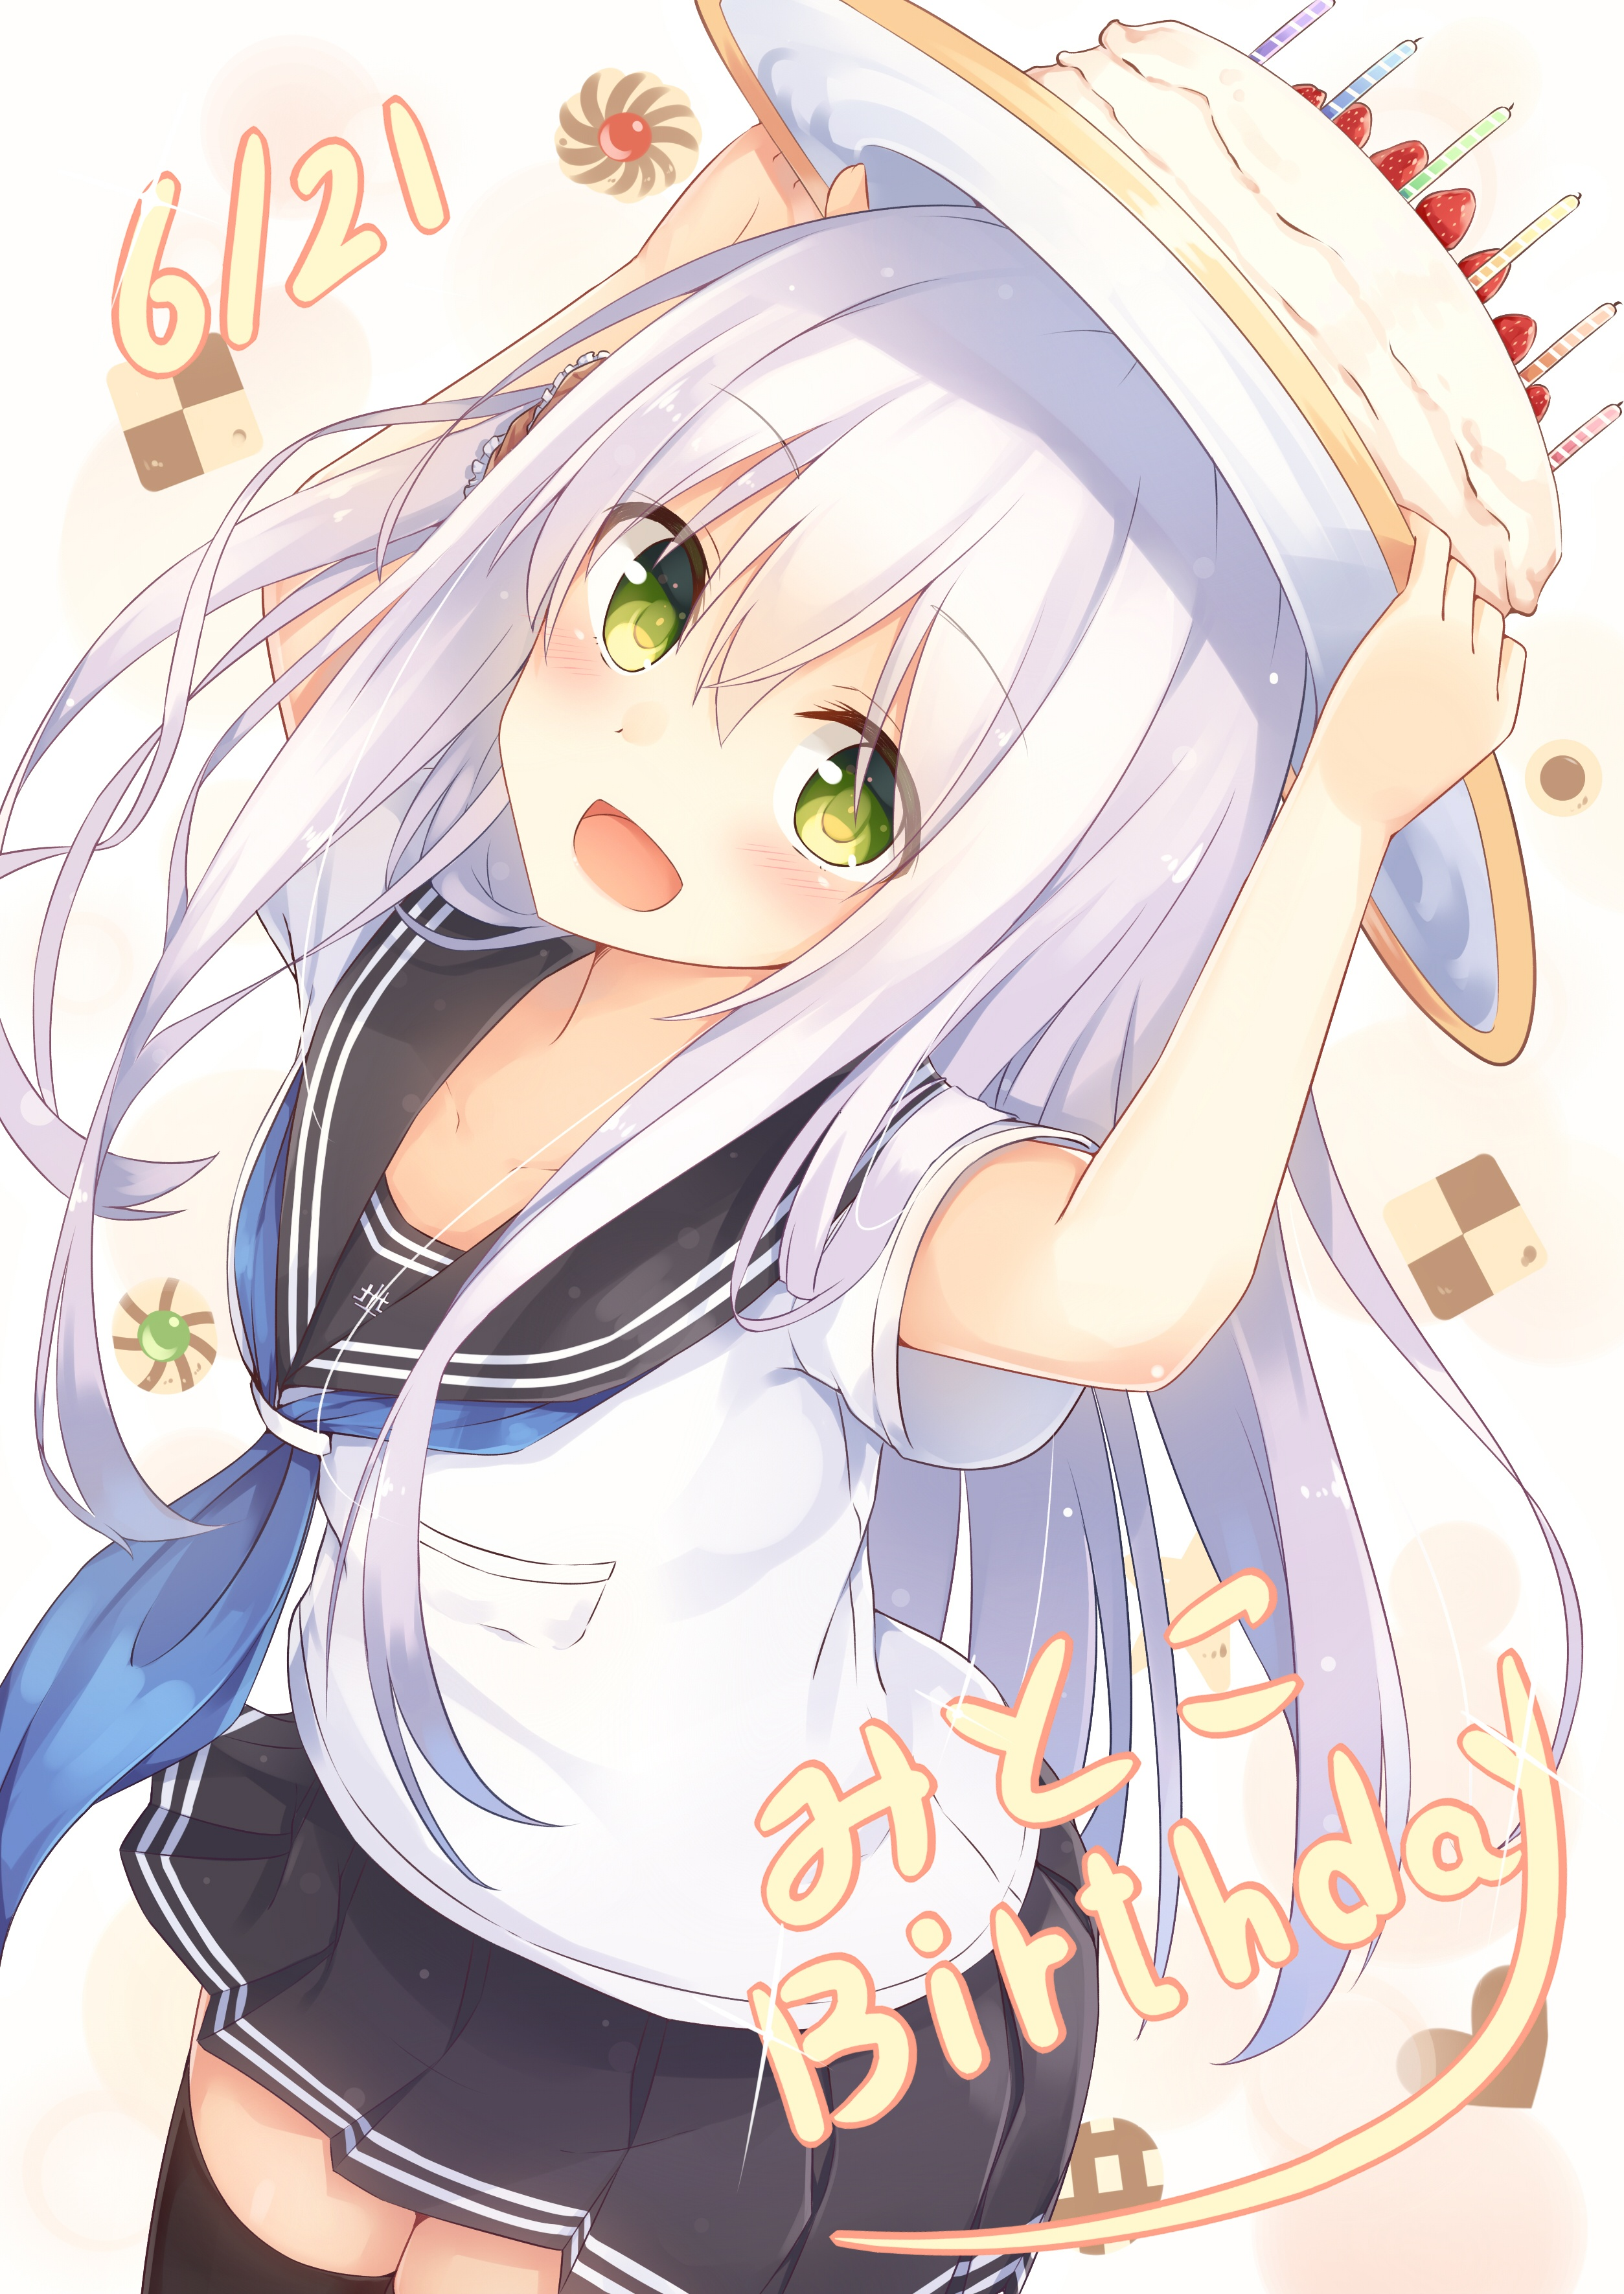纸片人正脸: (419, 137, 1401, 1017)
